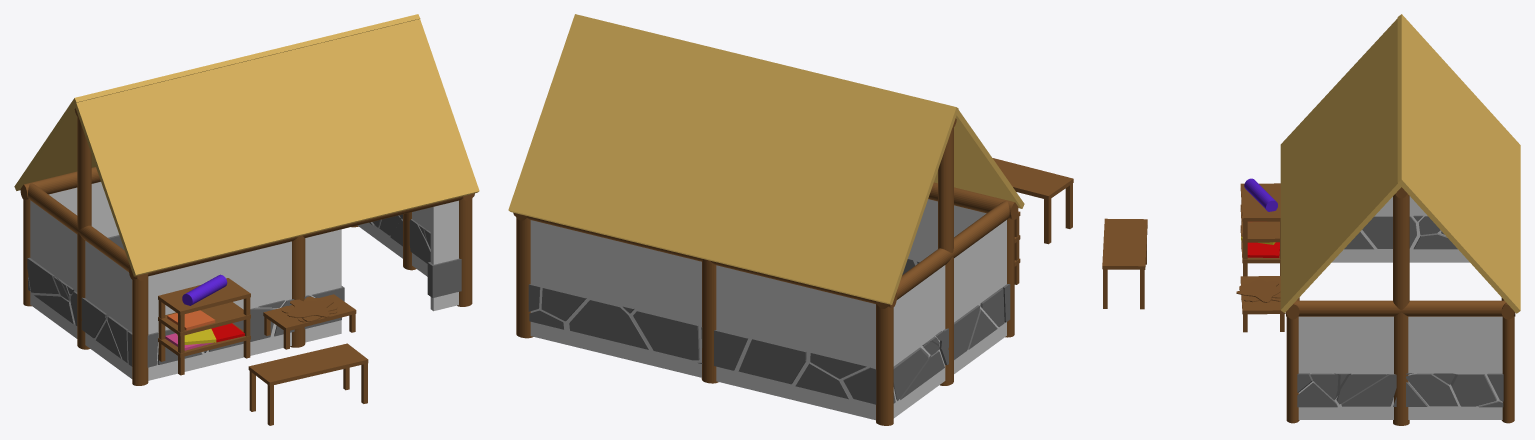
File: Tailor.fbx
3 views of the same model, side by side, from view 1: azimuth 30°, elevation 25°; view 2: azimuth 150°, elevation 25°; view 3: azimuth 270°, elevation 25° (orthographic). The views are drawn at different scales.
Visible parts, largest first — view 1: Roof, Clay Walls, Struts, Stone Walls, Table, Table.004, Table.003, Table.001, Table.002, Leather, Cylinder, Cloth.003; view 2: Roof, Clay Walls, Stone Walls, Struts, Table; view 3: Roof, Clay Walls, Struts, Stone Walls, Table, Table.004, Table.001, Table.003, Leather, Cylinder, Cloth.001.
Boxes of the visible parts, left/top/right/bottom form: Roof: left=14, top=14, right=479, bottom=276; Clay Walls: left=30, top=182, right=458, bottom=380; Struts: left=20, top=108, right=474, bottom=385; Stone Walls: left=27, top=214, right=461, bottom=367; Table: left=248, top=343, right=368, bottom=425; Table.004: left=158, top=278, right=250, bottom=332; Table.003: left=158, top=302, right=250, bottom=353; Table.001: left=263, top=294, right=356, bottom=349; Table.002: left=158, top=323, right=250, bottom=375; Leather: left=281, top=296, right=337, bottom=322; Cylinder: left=182, top=274, right=227, bottom=305; Cloth.003: left=167, top=310, right=215, bottom=330; Roof: left=508, top=14, right=1024, bottom=304; Clay Walls: left=530, top=199, right=1006, bottom=420; Stone Walls: left=528, top=258, right=1010, bottom=404; Struts: left=513, top=118, right=1018, bottom=425; Table: left=992, top=158, right=1073, bottom=244; Roof: left=1280, top=14, right=1520, bottom=313; Clay Walls: left=1298, top=196, right=1502, bottom=419; Struts: left=1286, top=187, right=1515, bottom=425; Stone Walls: left=1297, top=215, right=1503, bottom=407; Table: left=1102, top=218, right=1147, bottom=309; Table.004: left=1240, top=183, right=1280, bottom=238; Table.001: left=1240, top=276, right=1285, bottom=332; Table.003: left=1240, top=205, right=1280, bottom=259; Leather: left=1236, top=279, right=1280, bottom=302; Cylinder: left=1244, top=178, right=1277, bottom=211; Cloth.001: left=1247, top=242, right=1279, bottom=257.
Bounding box in the file's own units: 182 × 127 × 194.
